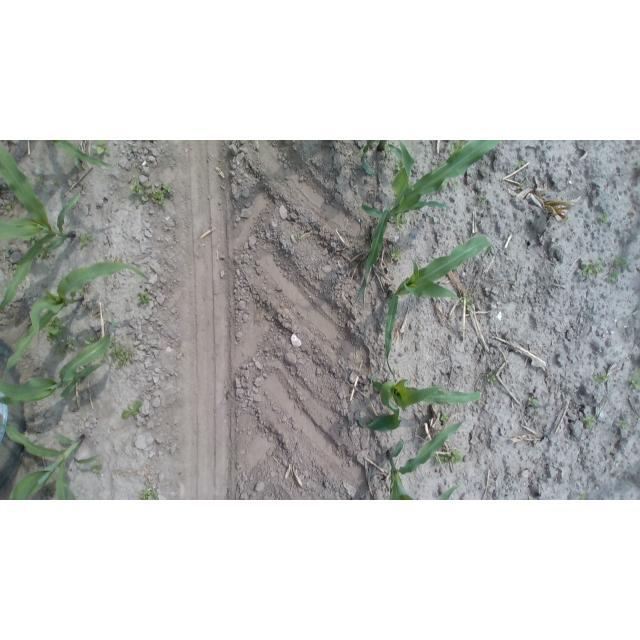Maize: (354, 140, 501, 302), (0, 261, 150, 379), (383, 232, 494, 380), (0, 140, 82, 312), (1, 315, 118, 407), (1, 417, 104, 500), (358, 367, 485, 434), (378, 420, 466, 501), (49, 140, 116, 172), (358, 141, 396, 178)
Weeds: (131, 179, 175, 208), (109, 340, 136, 370), (579, 258, 606, 281), (432, 451, 468, 468), (120, 398, 144, 422), (45, 318, 69, 342), (609, 254, 629, 282), (52, 339, 80, 358), (388, 211, 408, 230), (139, 484, 162, 500), (627, 365, 640, 392), (91, 140, 112, 156), (388, 243, 405, 261), (437, 178, 460, 191), (591, 373, 611, 386), (460, 295, 475, 312), (78, 232, 95, 247), (582, 415, 600, 429), (393, 159, 408, 175), (135, 290, 149, 307), (526, 395, 542, 409), (439, 411, 452, 428), (483, 371, 497, 386), (598, 210, 610, 226), (37, 243, 49, 257), (90, 464, 105, 475), (292, 230, 304, 243), (617, 418, 631, 429), (383, 143, 392, 160), (576, 490, 590, 500), (450, 141, 464, 151), (514, 181, 526, 192), (477, 189, 486, 203), (517, 159, 528, 170), (35, 174, 45, 186), (85, 336, 96, 345), (561, 215, 571, 224), (53, 178, 62, 187)
